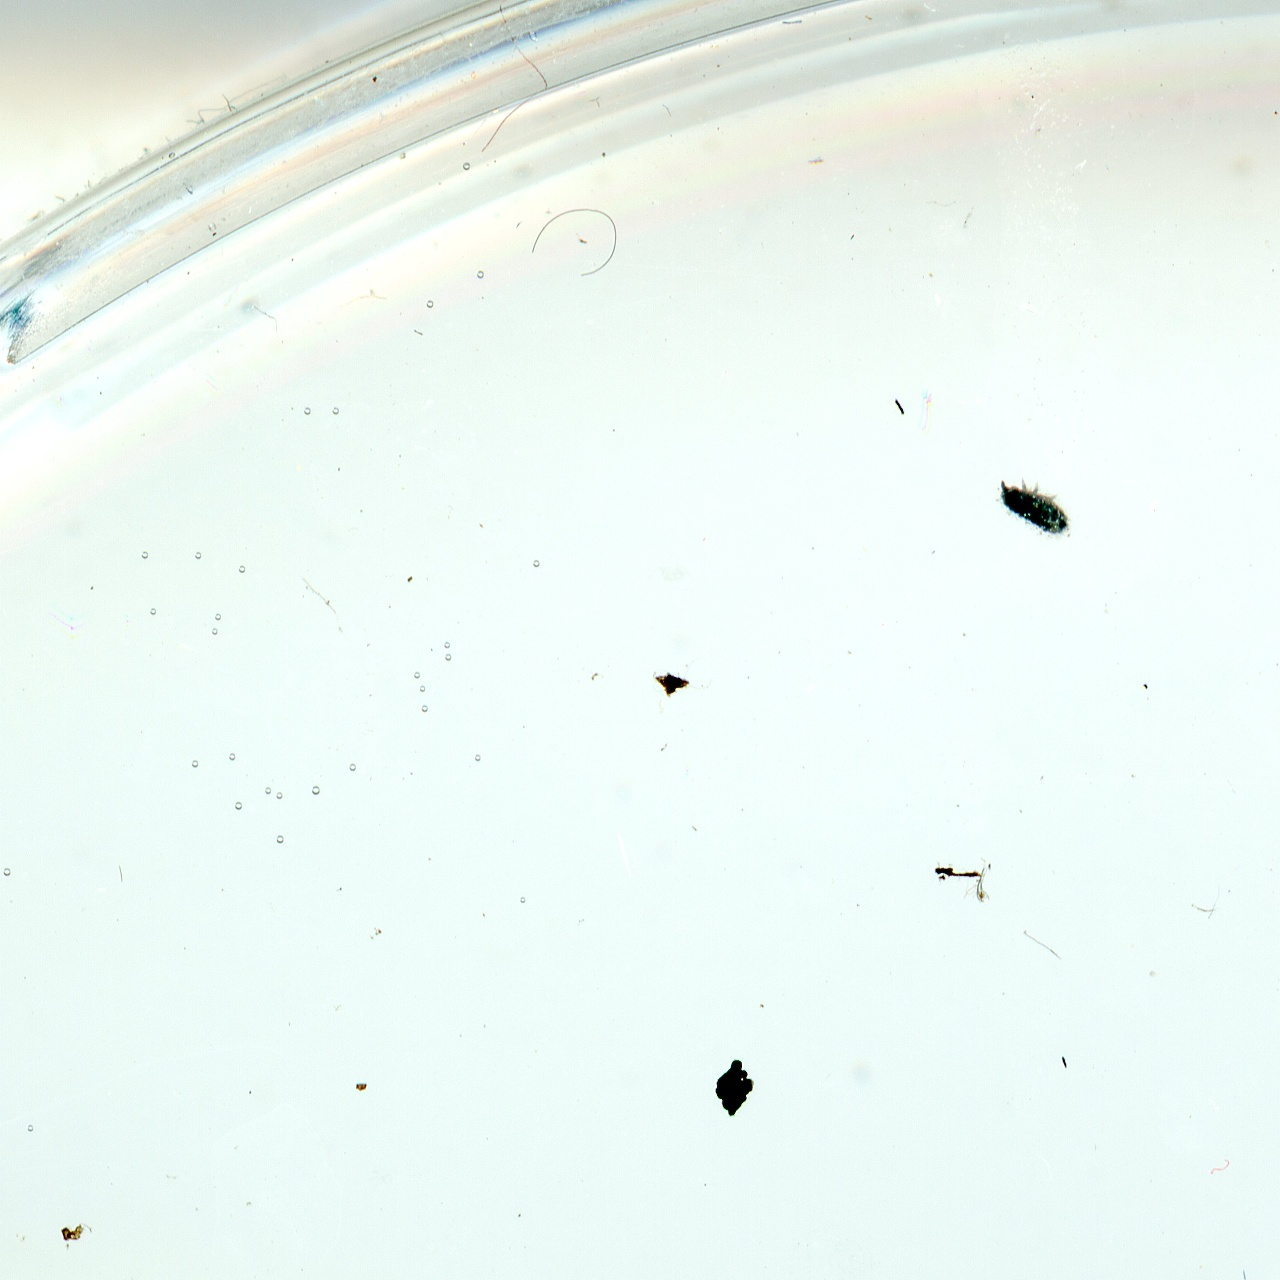arthropod: (982, 462, 1085, 550)
